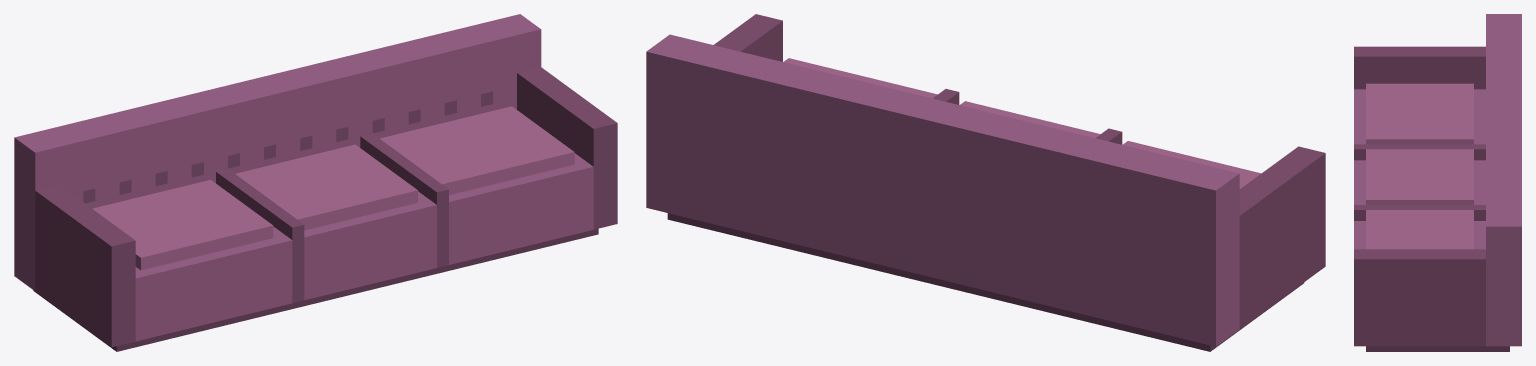
Rendered from sofa_terciopelo_triple_01.glb.
3 views of the same model, side by side, from view 1: azimuth 30°, elevation 25°; view 2: azimuth 150°, elevation 25°; view 3: azimuth 270°, elevation 25° (orthographic). The views are drawn at different scales.
Parts seen in each view (by area): view 1: sofa_terciopelo_triple; view 2: sofa_terciopelo_triple; view 3: sofa_terciopelo_triple.
Part boxes in pixels (x1,y1,x2,y2): sofa_terciopelo_triple: (14, 14, 617, 351); sofa_terciopelo_triple: (646, 14, 1325, 351); sofa_terciopelo_triple: (1354, 14, 1521, 351).
Bounding box in the file's own units: 3 × 0.8571 × 1.
